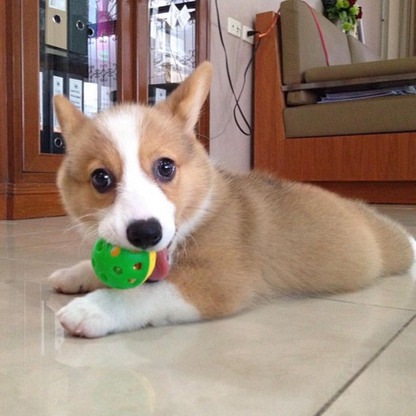Corgi: (48, 77, 392, 336)
